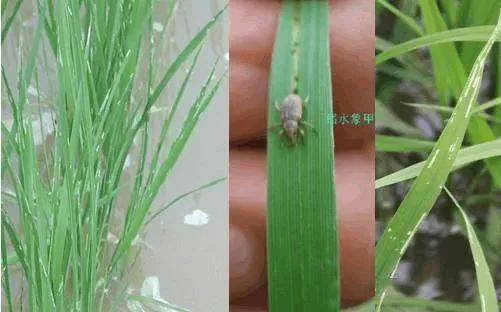Curculionidae: (266, 82, 318, 149)
